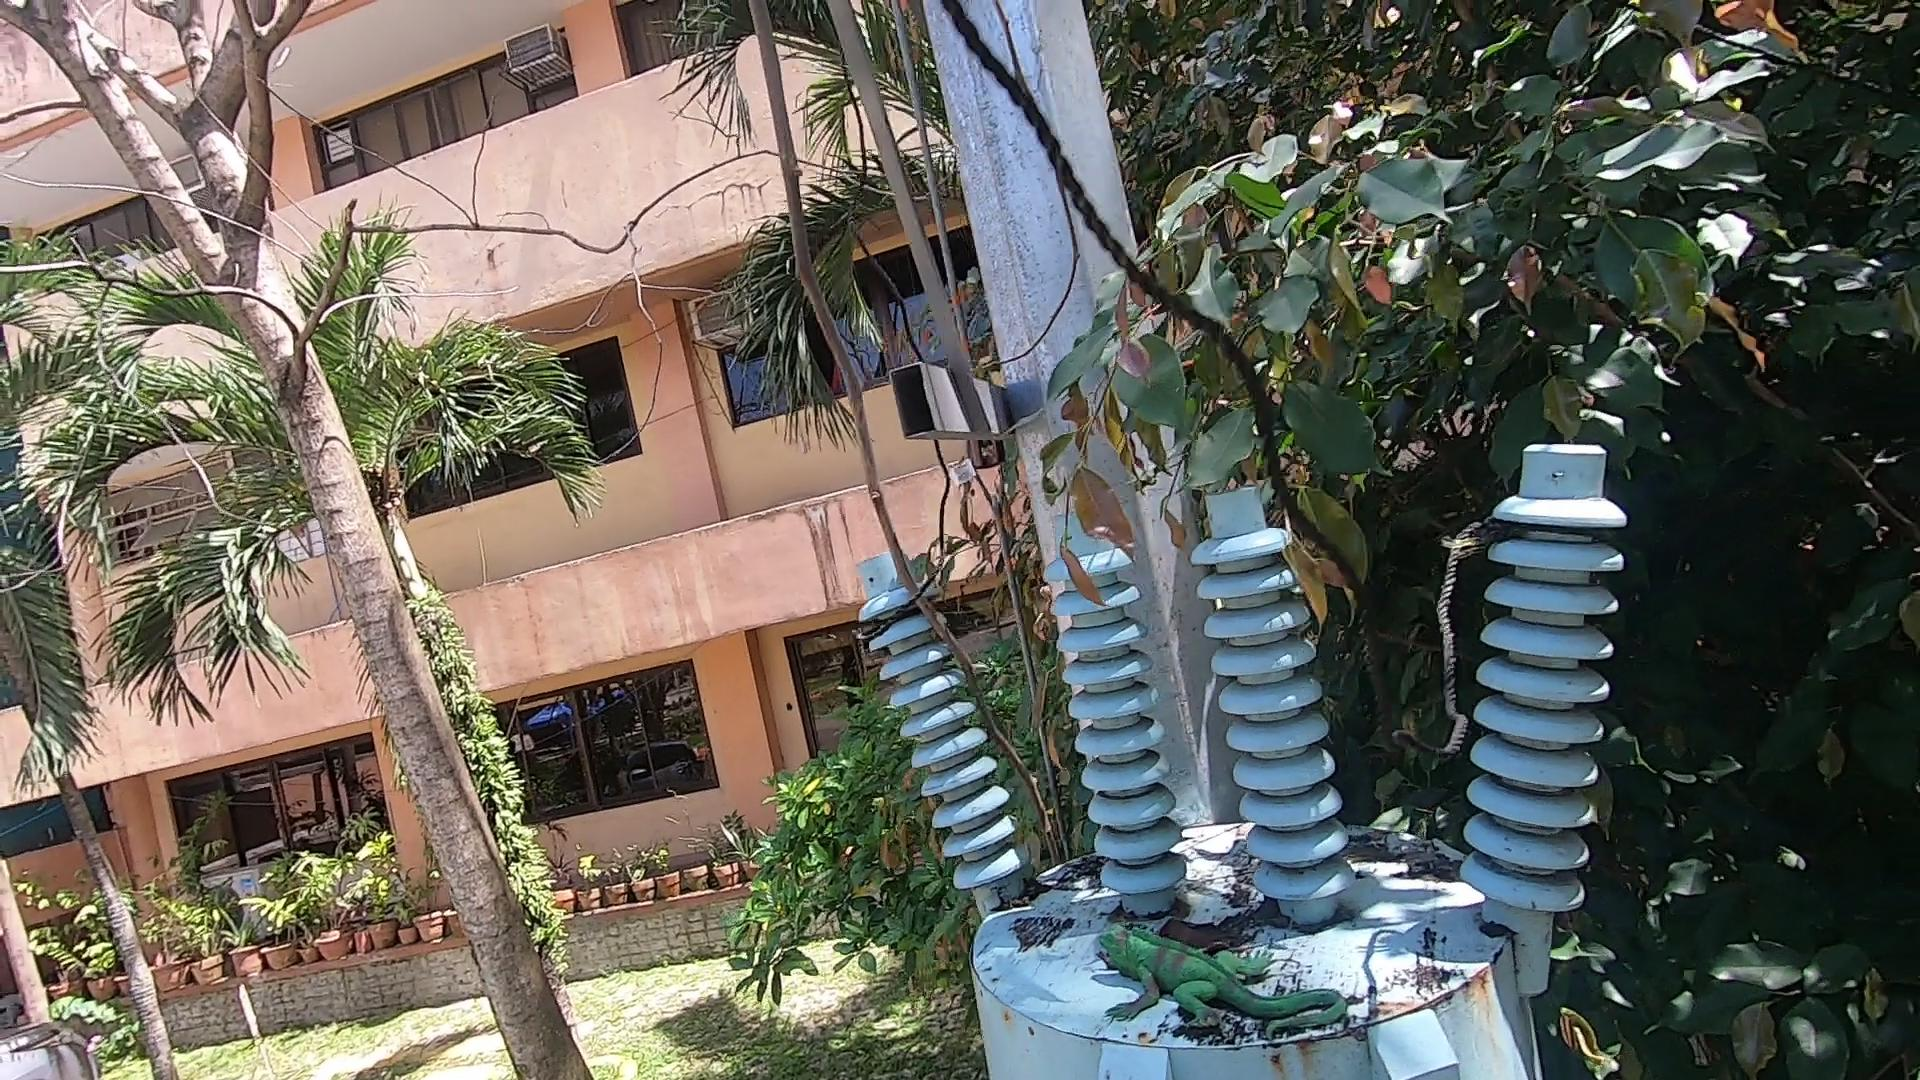branch with leaves: (1044, 324, 1390, 646)
leaf: (1158, 894, 1273, 952), (1352, 828, 1449, 894), (990, 872, 1072, 924)
tree branch: (708, 5, 1085, 852)
